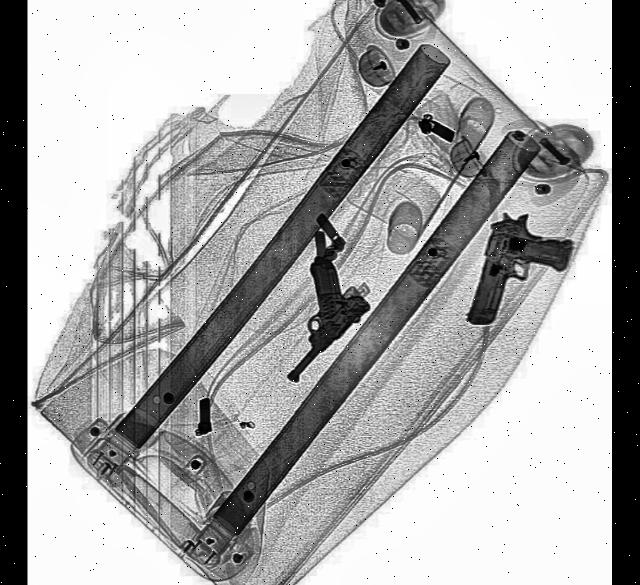Gun: (250, 247, 372, 390), (466, 204, 580, 355)
